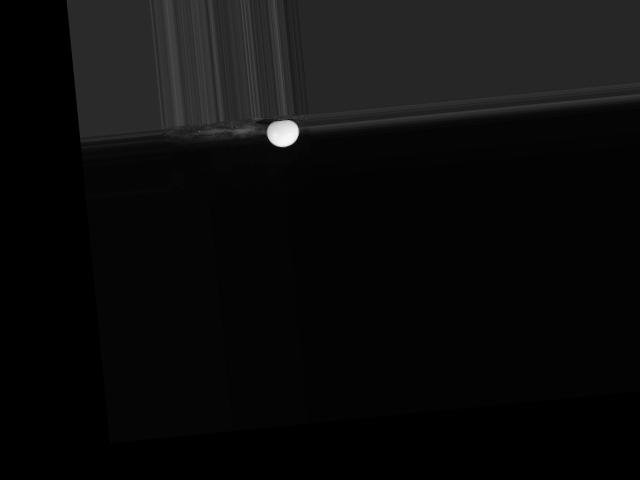egg: (265, 119, 300, 148)
